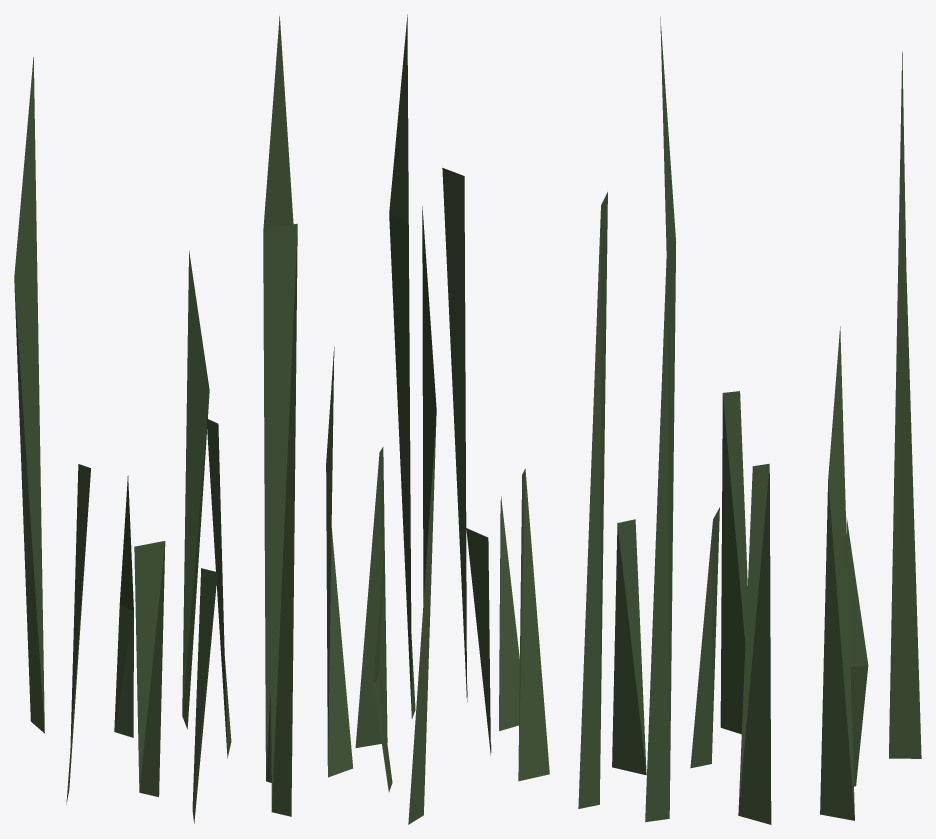
File: qn_grass_b.glb
3 renders of one model, left to right at view 1: azimuth 30°, elevation 25°; view 2: azimuth 150°, elevation 25°; view 3: azimuth 270°, elevation 25°, orthographic. The views are drawn at different scales.
Parts seen in each view (by area): view 1: qn_grass_b; view 2: qn_grass_b; view 3: qn_grass_b.
Part boxes in pixels (left/top/right/bottom): qn_grass_b: left=14, top=16, right=297, bottom=823; qn_grass_b: left=326, top=14, right=549, bottom=824; qn_grass_b: left=578, top=17, right=921, bottom=824.
Bounding box in the file's own units: 0.3162 × 1.15 × 0.4418.
